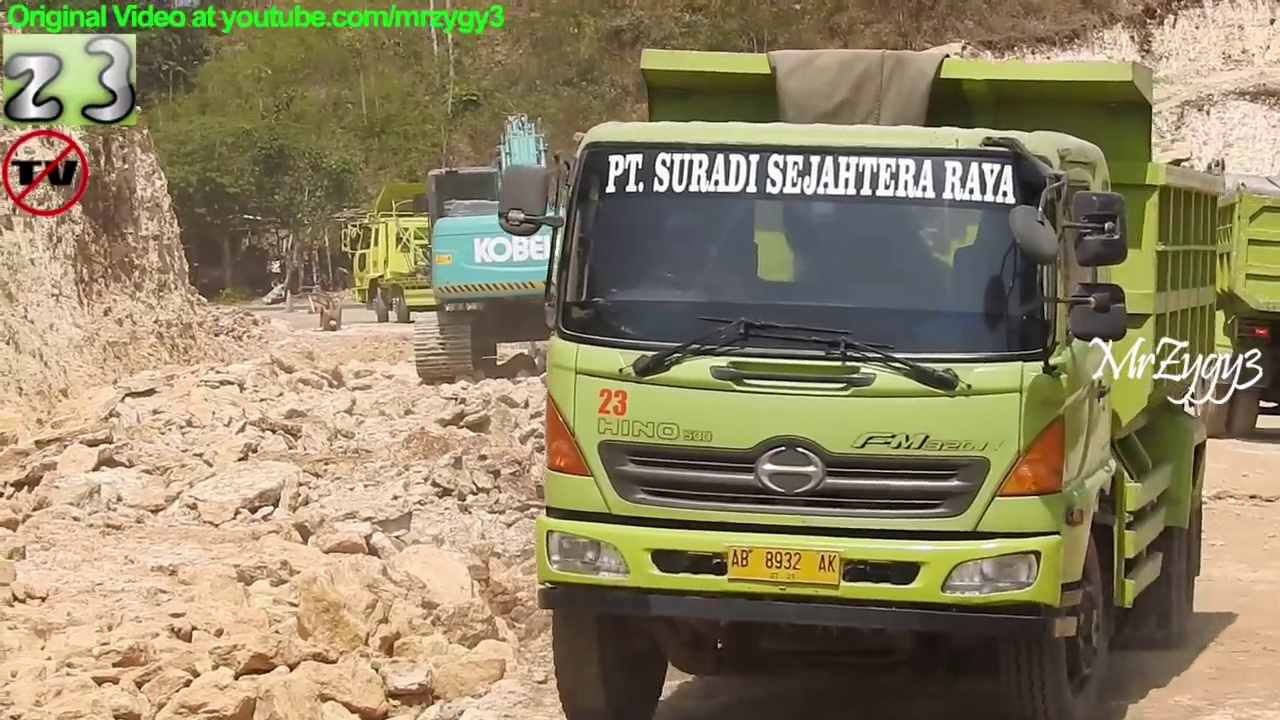excavator: (409, 106, 655, 389)
truck: (537, 41, 1224, 720), (1102, 169, 1280, 440), (330, 179, 637, 330)
